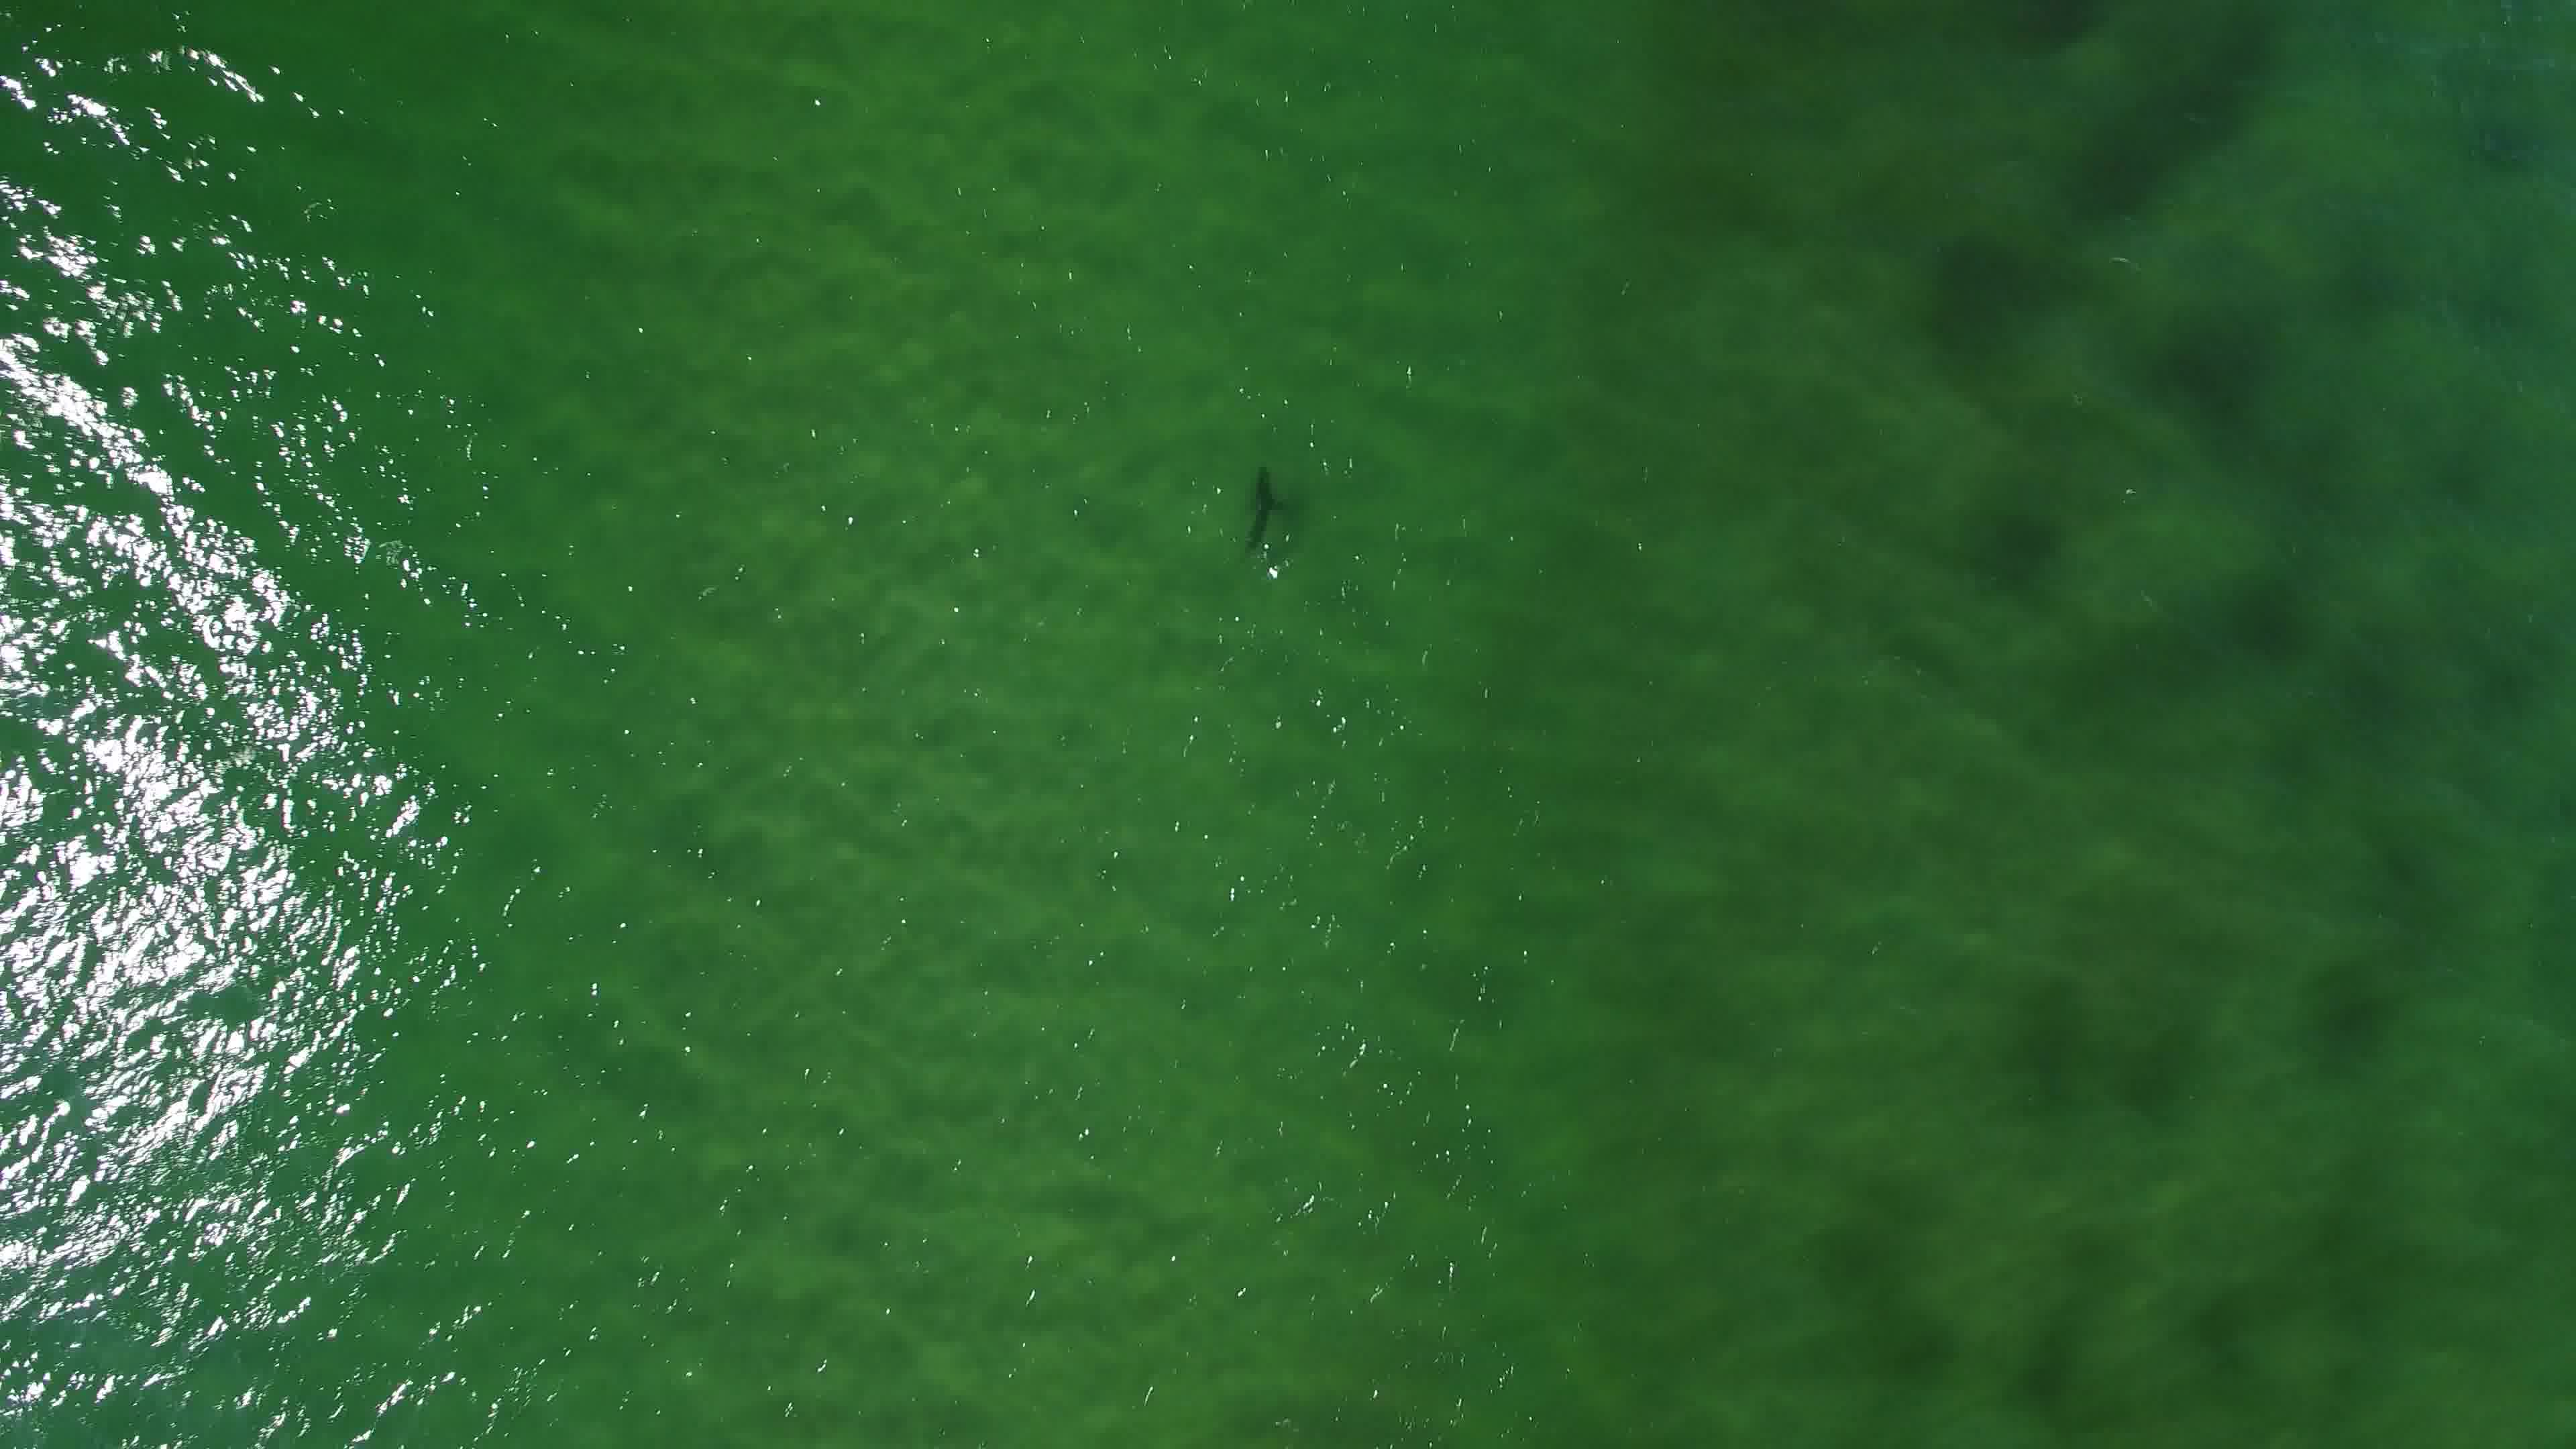shark: (1235, 462, 1290, 563)
